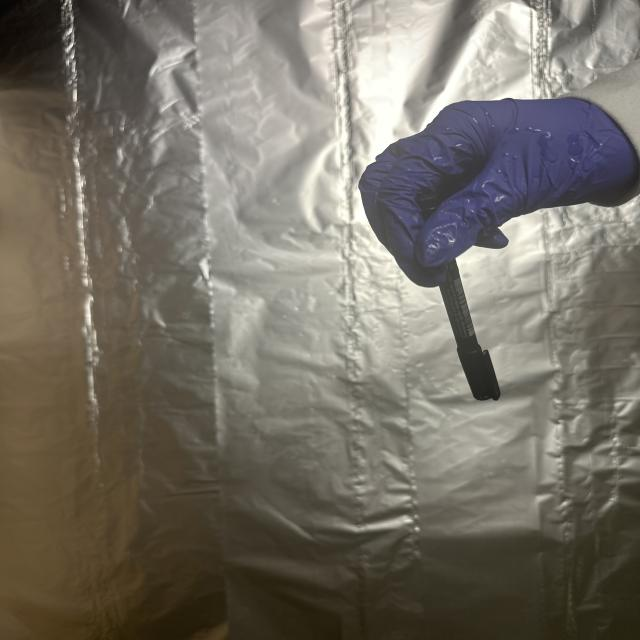gloves_contaminated: (359, 98, 638, 287)
